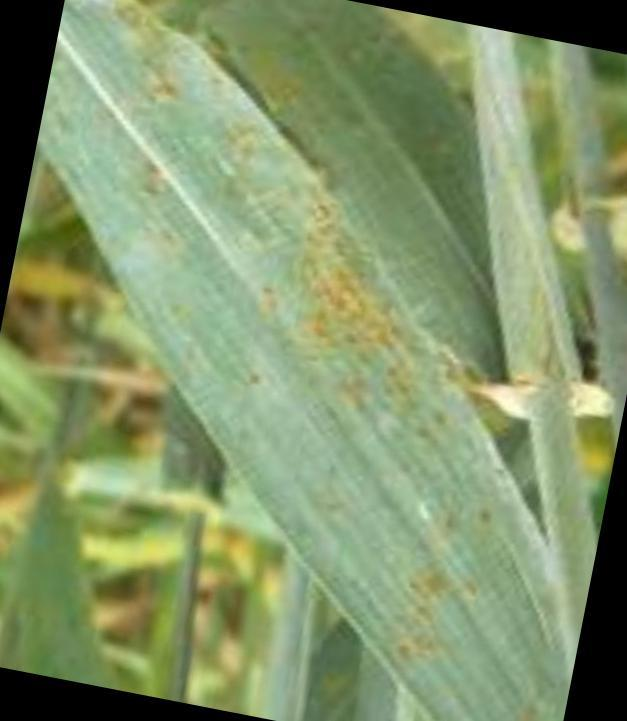Wheat: (286, 215, 464, 442)
